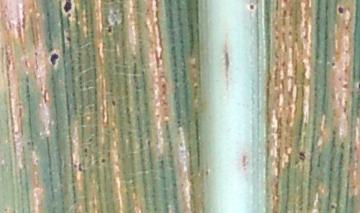tarspot: (48, 53, 60, 66), (63, 1, 73, 13), (337, 5, 344, 15), (106, 24, 113, 34), (77, 162, 84, 172), (24, 140, 33, 147), (299, 150, 304, 162), (248, 3, 255, 11), (64, 35, 72, 42), (110, 99, 117, 107), (44, 9, 50, 18), (330, 203, 337, 210), (87, 137, 94, 144), (330, 60, 336, 68), (100, 157, 106, 164), (83, 146, 88, 153), (357, 82, 360, 90), (281, 1, 288, 4)
